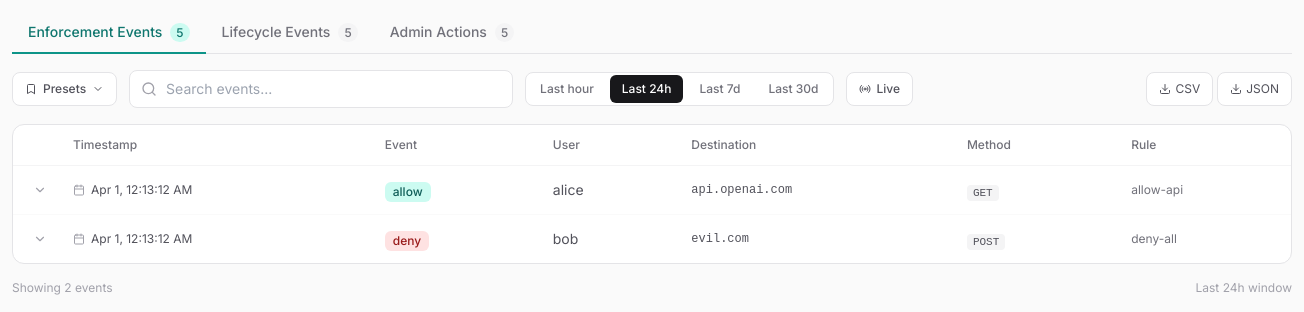
Test: AuditLog page › filters entries by search term
The width and height of the screenshot is (1304, 312).
Check: the text "allow" is shown, box left=385, top=182, right=431, bottom=202
Type "alice" into the field with placeholder "Search events..." at (321, 89), box left=129, top=70, right=513, bottom=108
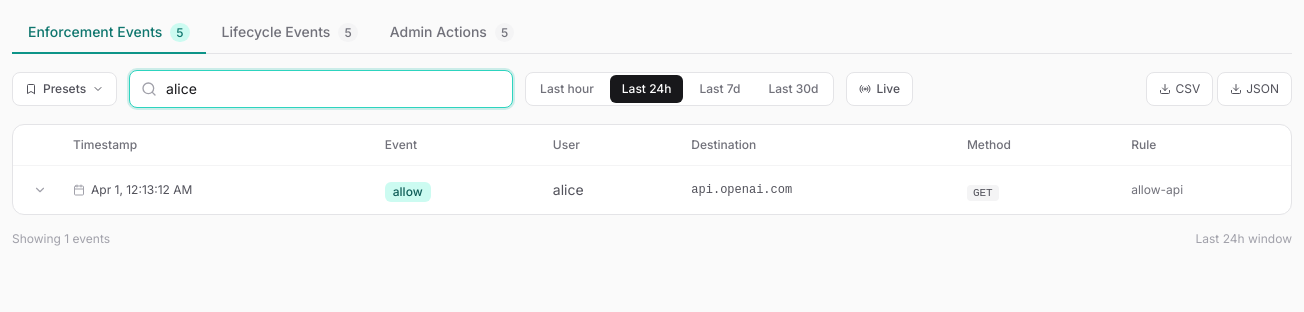
Check: the text "allow" is shown, box left=385, top=182, right=431, bottom=202
Check: the text "deny" is gone
